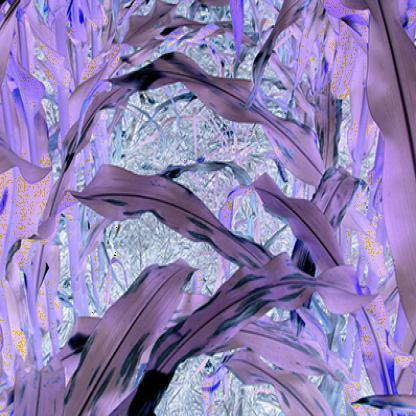Corn leaf blight: (122, 254, 364, 414), (72, 50, 339, 188), (36, 160, 282, 270), (73, 260, 205, 414)
